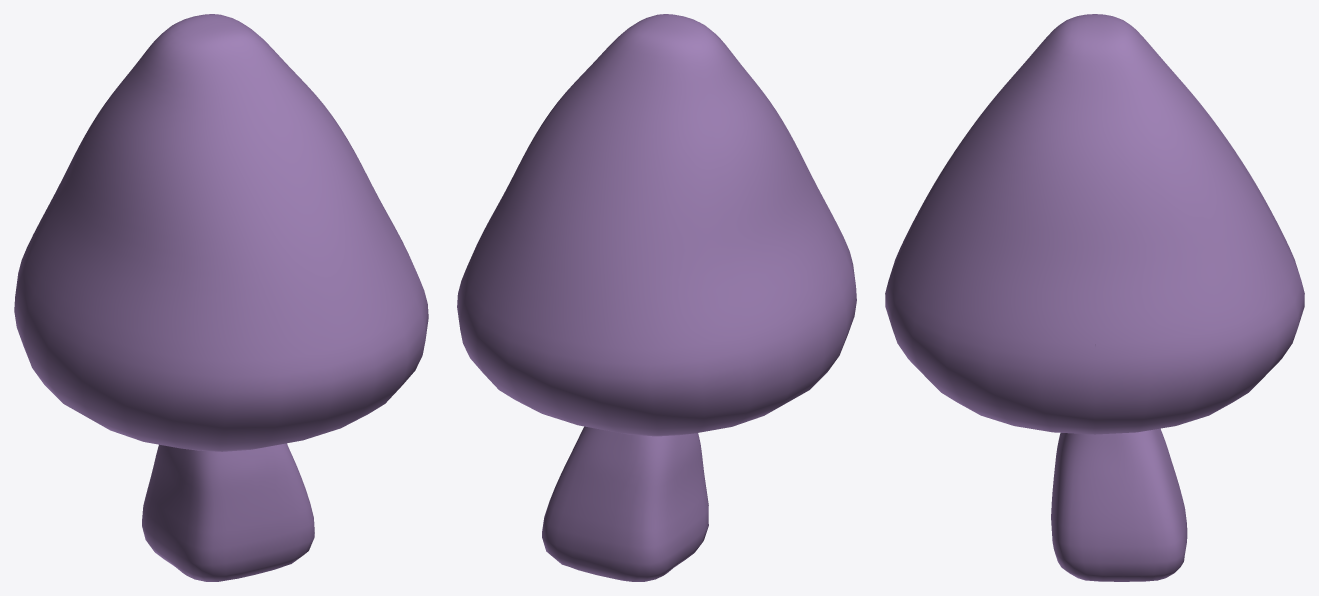
The model's file is champignon-painted.gltf.
3 views of the same model, side by side, from view 1: azimuth 30°, elevation 25°; view 2: azimuth 150°, elevation 25°; view 3: azimuth 270°, elevation 25° (orthographic). The views are drawn at different scales.
Parts seen in each view (by area): view 1: HEAD.001; view 2: HEAD.001; view 3: HEAD.001.
Part boxes in pixels (x1,y1,x2,y2): HEAD.001: [14, 14, 428, 581]; HEAD.001: [457, 14, 856, 581]; HEAD.001: [885, 14, 1304, 581].
Bounding box in the file's own units: 0.6917 × 1.06 × 0.762.
Materials: 1 (1 with a texture image).
